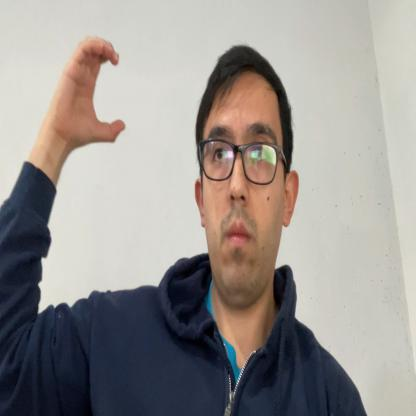C: (54, 34, 126, 146)
